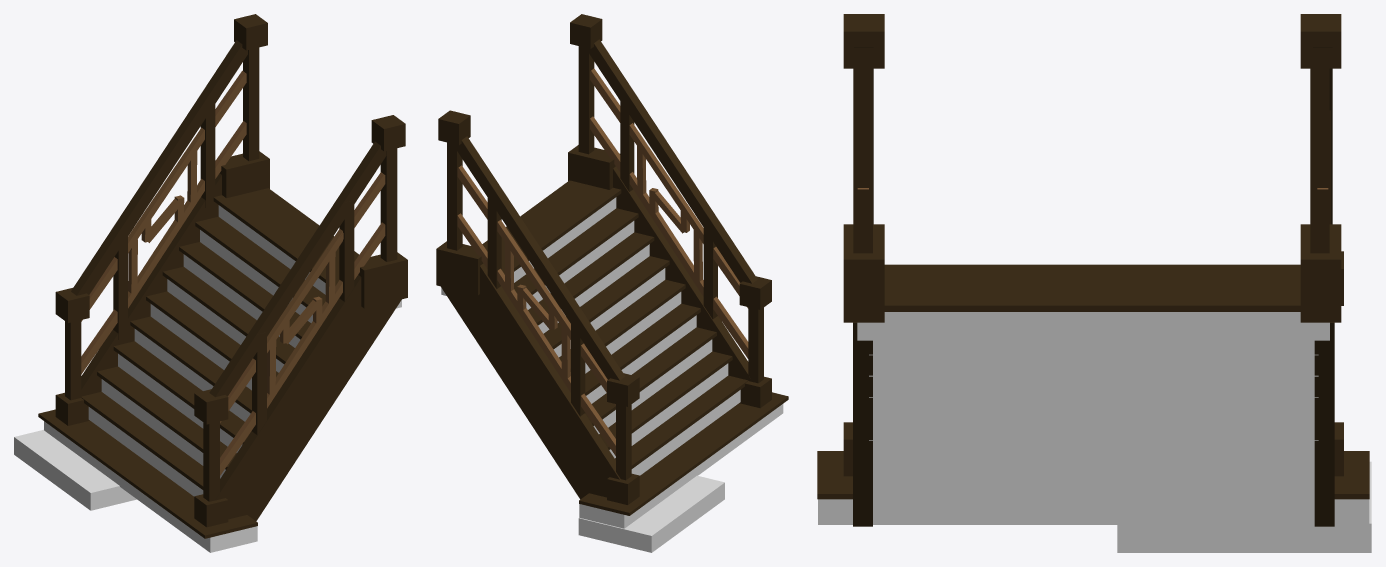
The model's file is stairs3.fbx.
3 renders of one model, left to right at view 1: azimuth 30°, elevation 25°; view 2: azimuth 150°, elevation 25°; view 3: azimuth 270°, elevation 25°, orthographic. The views are drawn at different scales.
Parts seen in each view (by area): view 1: Cube.141, Cube.131, Cube.155, Cube.150, Cube.139, Cube.130, Cube.013, Cube.154, Cube.132, Cube.138, Cube.133, Cube.134 (+33 smaller); view 2: Cube.154, Cube.131, Cube.155, Cube.150, Cube.139, Cube.013, Cube.141, Cube.130, Cube.132, Cube.138, Cube.133, Cube.134 (+33 smaller); view 3: Cube.139, Cube.131, Cube.134, Cube.130, Cube.132, Cube.137, Cube.136, Cube.133, Cube.135, Cube.013, Cube.138, Cube.154 (+7 smaller).
Boxes of the visible parts, x1,y1,x2,y2 form: Cube.141: [215, 275, 401, 521]; Cube.131: [38, 409, 257, 552]; Cube.155: [71, 40, 247, 295]; Cube.150: [209, 141, 386, 397]; Cube.139: [213, 188, 401, 308]; Cube.130: [81, 391, 203, 496]; Cube.013: [14, 429, 136, 510]; Cube.154: [81, 173, 221, 396]; Cube.132: [97, 366, 236, 478]; Cube.138: [195, 216, 325, 322]; Cube.133: [113, 341, 251, 452]; Cube.134: [130, 316, 251, 421]; Cube.154: [441, 263, 620, 499]; Cube.131: [579, 392, 788, 528]; Cube.155: [452, 136, 625, 380]; Cube.150: [585, 39, 757, 283]; Cube.139: [441, 180, 621, 295]; Cube.013: [578, 475, 724, 552]; Cube.141: [613, 166, 752, 381]; Cube.130: [615, 375, 748, 475]; Cube.132: [599, 351, 732, 458]; Cube.138: [514, 208, 638, 309]; Cube.133: [585, 327, 716, 433]; Cube.134: [585, 303, 700, 403]; Cube.139: [857, 264, 1329, 340]; Cube.131: [817, 451, 1369, 524]; Cube.134: [869, 418, 1318, 440]; Cube.130: [873, 483, 1314, 505]; Cube.132: [873, 461, 1314, 483]; Cube.137: [869, 355, 1318, 376]; Cube.136: [869, 376, 1318, 397]; Cube.133: [873, 440, 1314, 461]; Cube.135: [873, 398, 1314, 418]; Cube.013: [1117, 461, 1371, 552]; Cube.138: [869, 340, 1318, 355]; Cube.154: [1314, 322, 1334, 526].
Bounding box in the file's own units: 1432 × 2279 × 1767.
